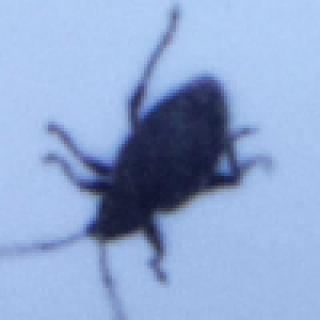bvw: (3, 3, 269, 320)
